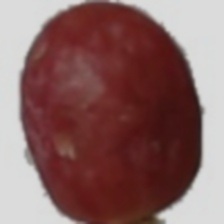grapes: (50, 13, 194, 194)
